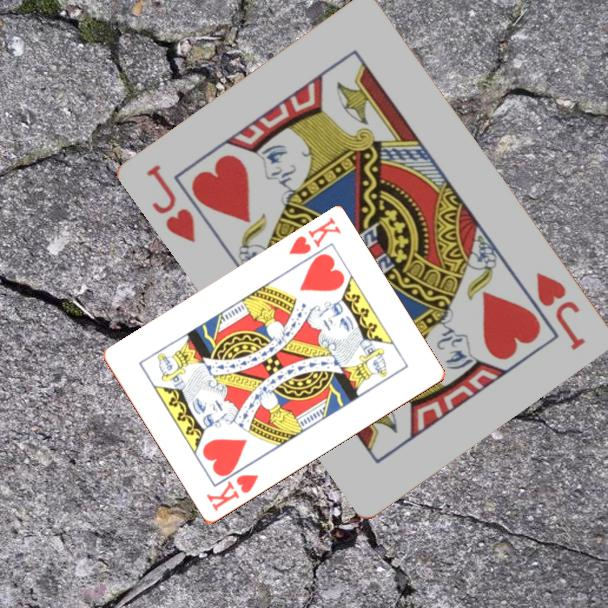h11: (533, 268, 590, 354), (143, 161, 199, 247)
h13: (285, 214, 344, 258), (203, 471, 261, 515)
